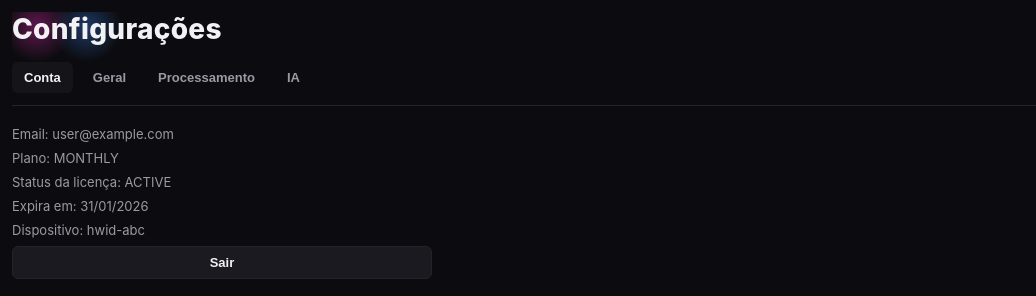
Scenario: SettingsPage — Processamento tab › shows a clear message when FFmpeg is unavailable
The width and height of the screenshot is (1036, 296).
Expected: the text "Email: user@example.com" is shown, [12,126,174,142]
Click the button "Processamento" at (206, 78), box [146,62,267,93]
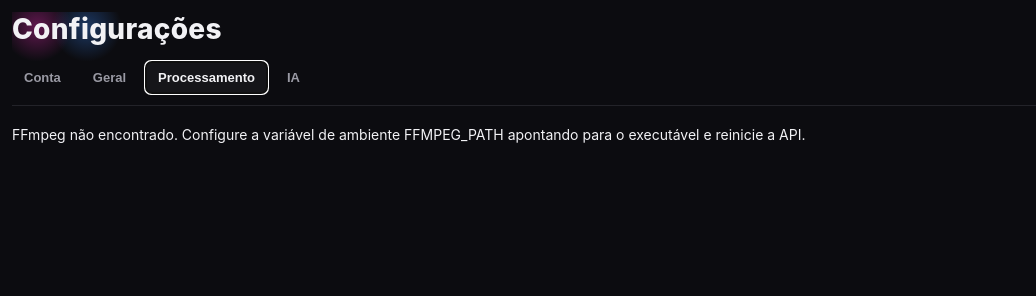
Now the text "FFmpeg não encontrado" is shown, box [12,126,806,143]
